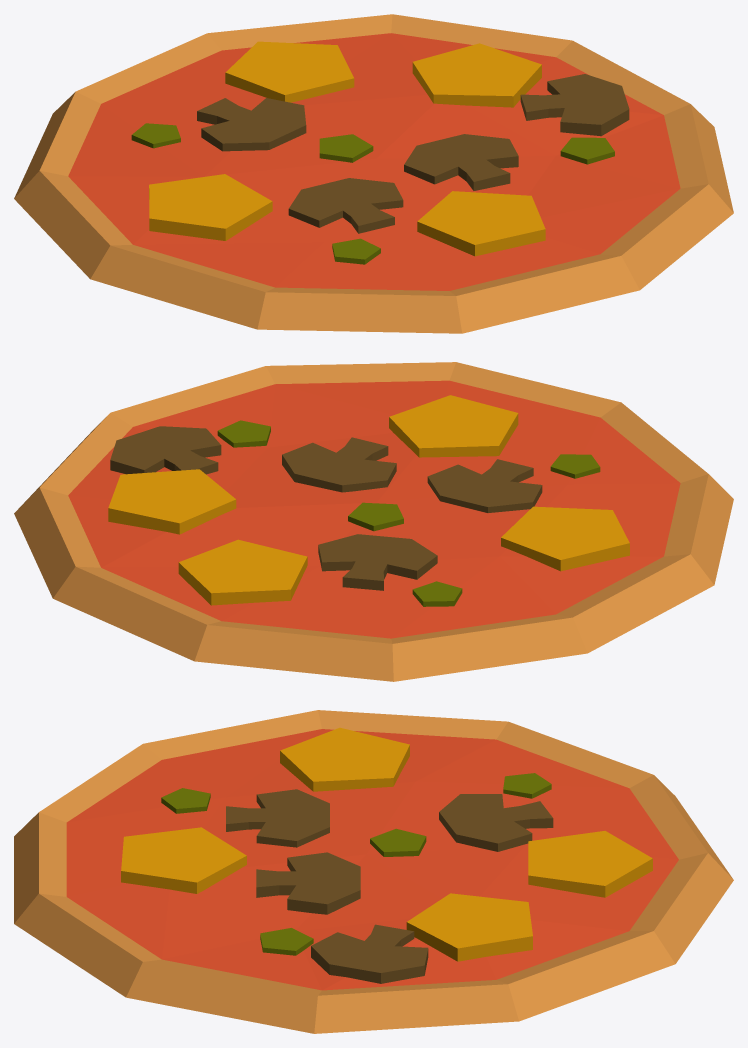
File: VegetablePizza.glb
3 views of the same model, one above another, from view 1: azimuth 30°, elevation 25°; view 2: azimuth 150°, elevation 25°; view 3: azimuth 270°, elevation 25° (orthographic).
Visible parts, largest first — view 1: VegetablePizza; view 2: VegetablePizza; view 3: VegetablePizza.
Part boxes in pixels (left/top/right/bottom): VegetablePizza: left=14, top=14, right=733, bottom=333; VegetablePizza: left=14, top=362, right=733, bottom=681; VegetablePizza: left=14, top=710, right=733, bottom=1033.
Bounding box in the file's own units: 0.4202 × 0.0226 × 0.4159.
